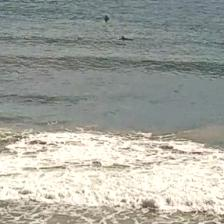surfer: (120, 36, 132, 42), (104, 15, 110, 22)
